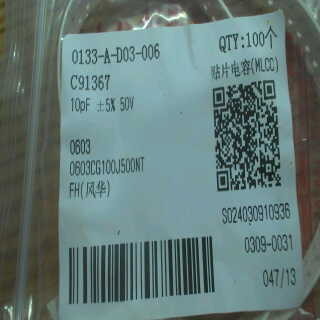10pF: (70, 94, 95, 116)
